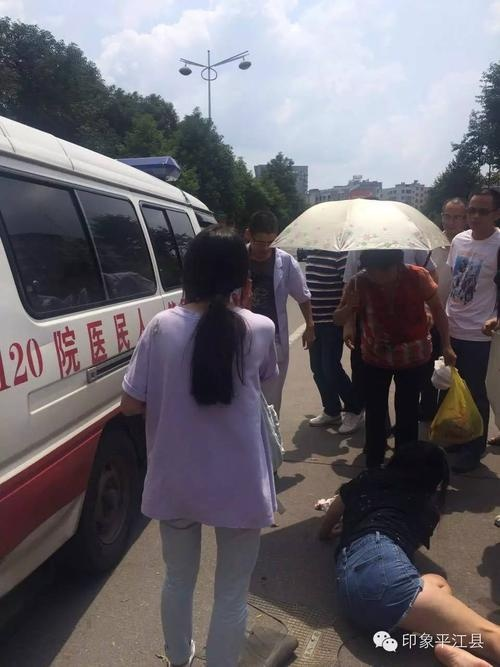falling: (305, 435, 500, 665)
